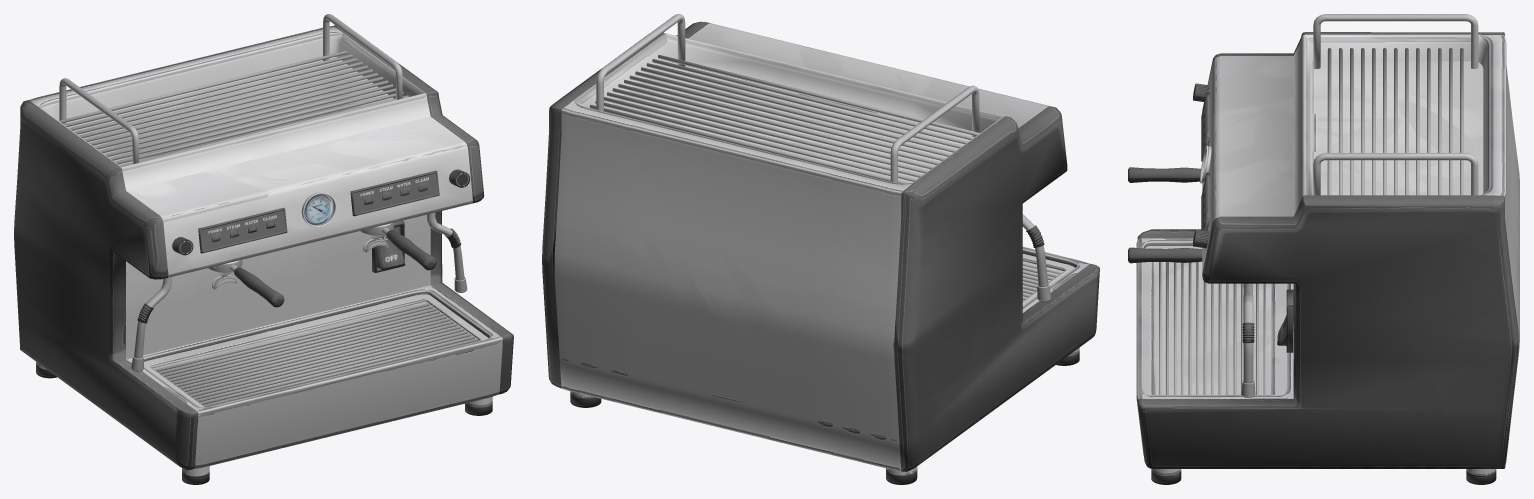
The model's file is coffeemachine.glb.
3 views of the same model, side by side, from view 1: azimuth 30°, elevation 25°; view 2: azimuth 150°, elevation 25°; view 3: azimuth 270°, elevation 25° (orthographic). The views are drawn at different scales.
Parts seen in each view (by area): view 1: cofffeemachine_origin.002; view 2: cofffeemachine_origin.002; view 3: cofffeemachine_origin.002.
Part boxes in pixels (x1,y1,x2,y2): cofffeemachine_origin.002: (14, 14, 513, 484); cofffeemachine_origin.002: (542, 14, 1099, 484); cofffeemachine_origin.002: (1128, 14, 1519, 484).
Bounding box in the file's own units: 0.7984 × 0.6759 × 0.7497.
Materials: 2 (2 with a texture image).
